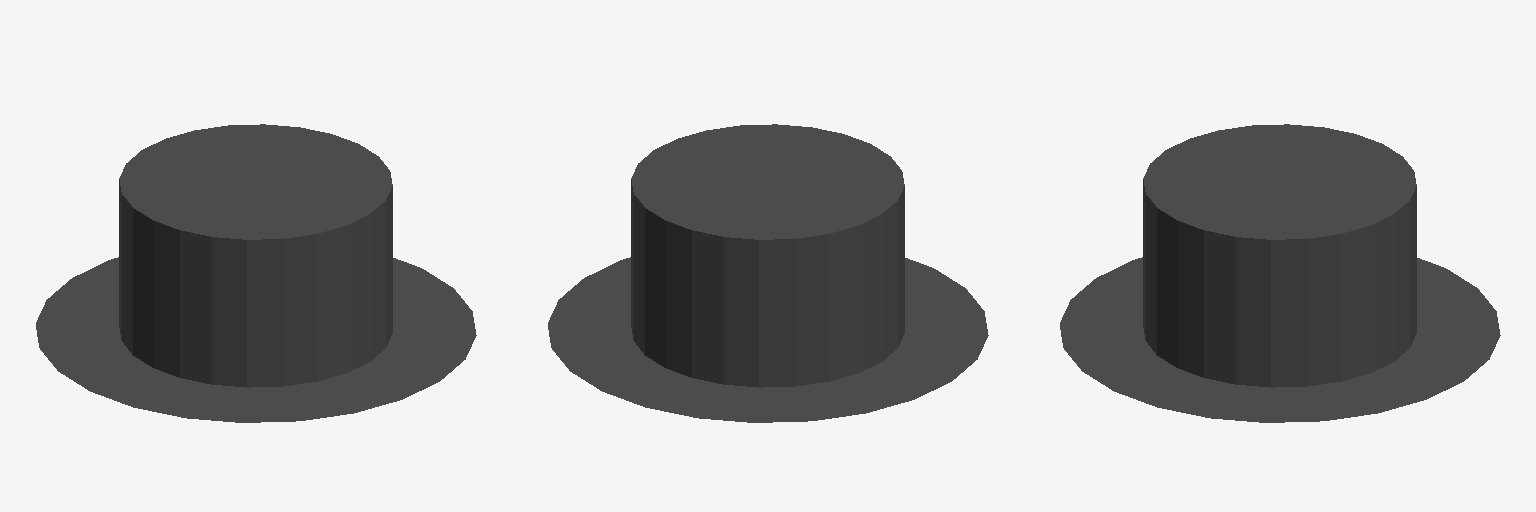
Rendered from hat_tophat.obj.
3 views of the same model, side by side, from view 1: azimuth 30°, elevation 25°; view 2: azimuth 150°, elevation 25°; view 3: azimuth 270°, elevation 25° (orthographic).
Parts seen in each view (by area): view 1: Mesh1 Untitled__4_1 Model; view 2: Mesh1 Untitled__4_1 Model; view 3: Mesh1 Untitled__4_1 Model.
Boxes of the visible parts, box(x1,y1,x2,y2) form: Mesh1 Untitled__4_1 Model: box(36, 124, 476, 422); Mesh1 Untitled__4_1 Model: box(548, 124, 988, 422); Mesh1 Untitled__4_1 Model: box(1060, 124, 1500, 422).
Bounding box in the file's own units: 734 × 271 × 734.